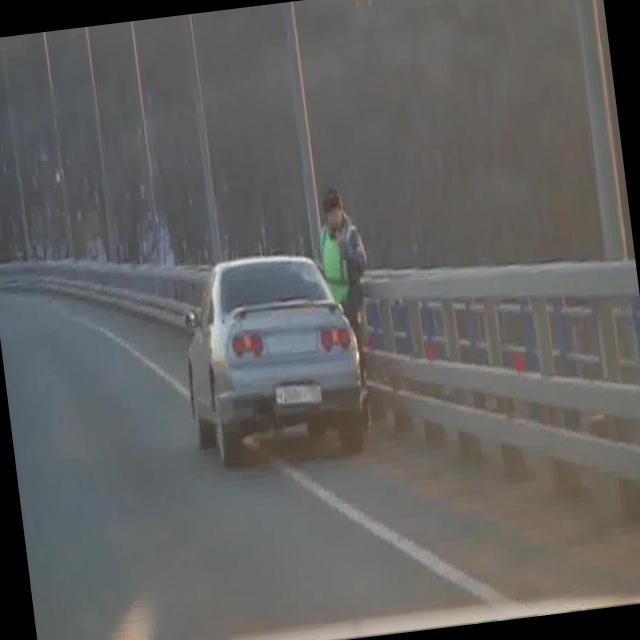safety_vest: (315, 225, 365, 308)
